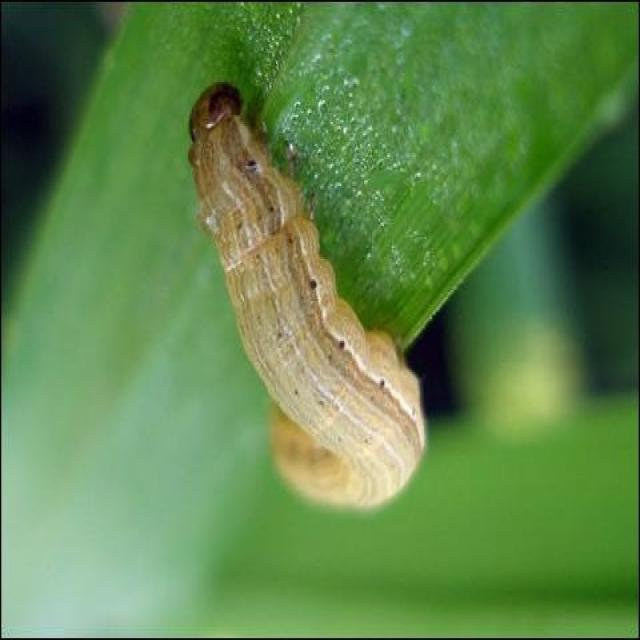army worm: (178, 79, 430, 521)
